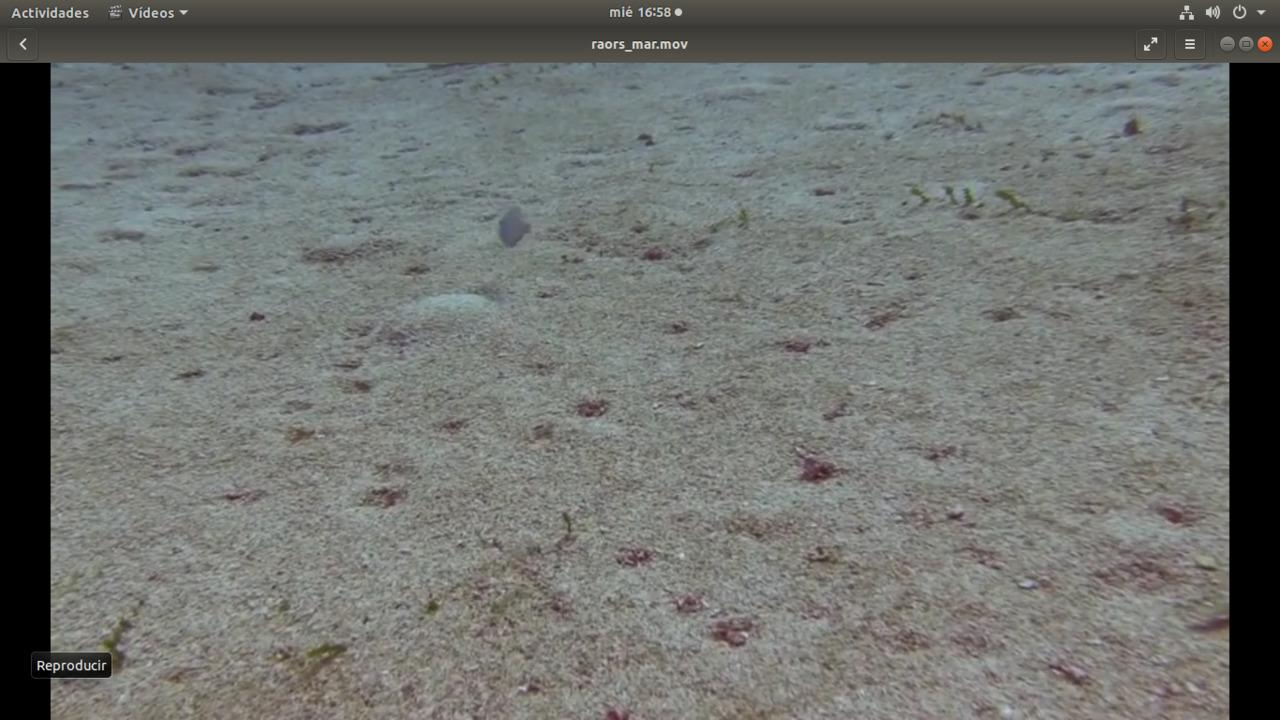raor: (486, 197, 543, 253)
